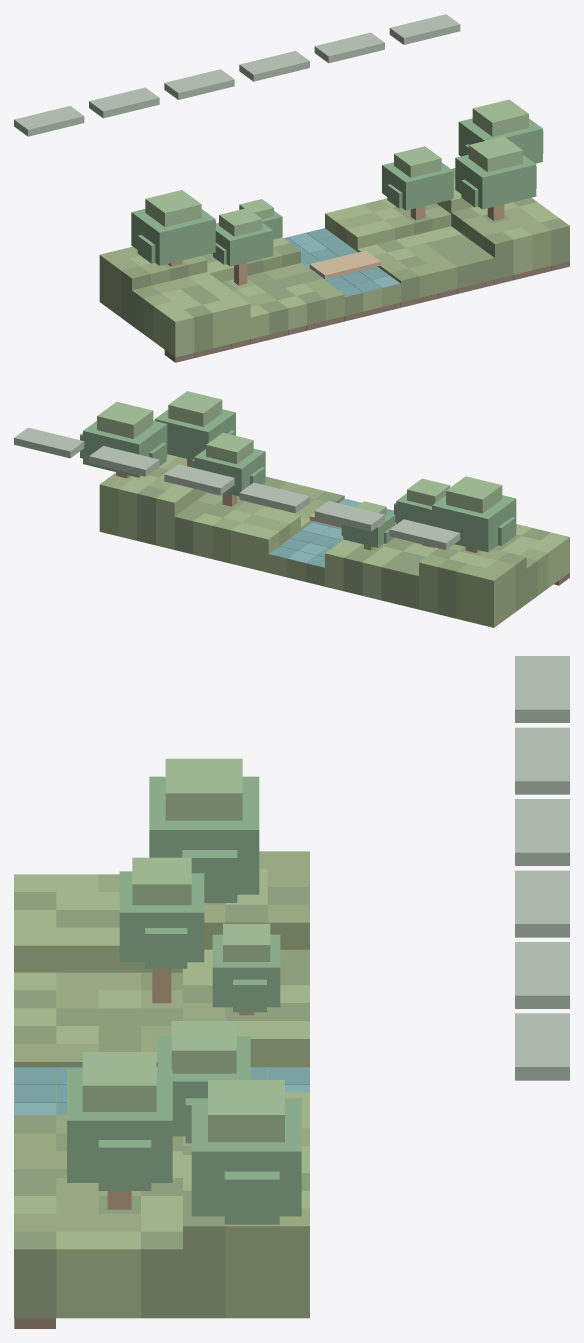
The model's file is home_landscape.glb.
The picture shows the model from 3 angles, top to bottom: view 1: azimuth 30°, elevation 25°; view 2: azimuth 150°, elevation 25°; view 3: azimuth 270°, elevation 25°; orthographic projection. The views are drawn at different scales.
Parts seen in each view (by area): view 1: ground (×29), canopy (×10), cloud (×6); view 2: ground (×30), canopy (×12), cloud (×6); view 3: canopy (×17), ground (×15), cloud (×6).
Boxes of the visible parts, x1=… form: ground (×29): x1=99, y1=206, x2=569, y2=357; canopy (×10): x1=131, y1=99, x2=542, y2=266; cloud (×6): x1=14, y1=14, x2=460, y2=136; ground (×30): x1=99, y1=476, x2=569, y2=627; canopy (×12): x1=83, y1=391, x2=516, y2=552; cloud (×6): x1=14, y1=427, x2=460, y2=549; canopy (×17): x1=67, y1=758, x2=301, y2=1224; ground (×15): x1=14, y1=904, x2=309, y2=1318; cloud (×6): x1=515, y1=656, x2=569, y2=1080.
Bounding box in the file's own units: 23.45 × 7.3 × 13.15.
